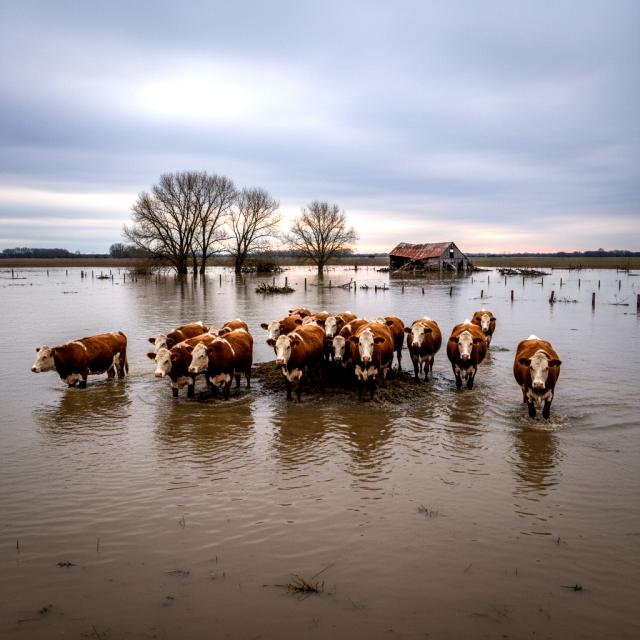cow: (30, 328, 134, 393), (135, 328, 226, 400), (344, 313, 401, 409), (510, 329, 570, 419), (188, 324, 262, 396), (271, 322, 332, 392), (139, 322, 219, 366), (399, 311, 443, 390), (448, 320, 488, 392), (254, 309, 308, 354), (326, 316, 363, 379), (375, 306, 404, 367), (315, 306, 368, 338), (468, 308, 498, 346), (201, 317, 252, 339), (294, 309, 334, 328), (285, 308, 313, 318)
